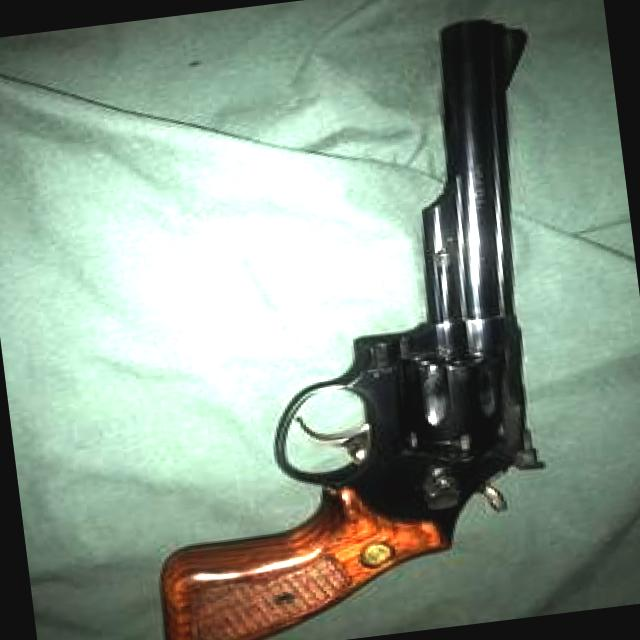revolver: (56, 0, 640, 640)
